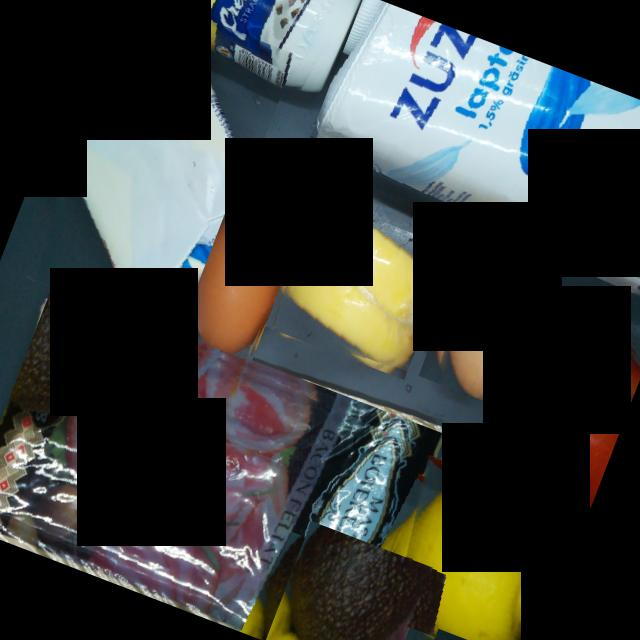avocado: (265, 521, 433, 640)
bacon: (0, 284, 450, 640)
butter: (0, 0, 298, 337)
cheese: (264, 196, 454, 380)
eggs: (419, 232, 555, 406), (178, 202, 302, 362)
lemon: (368, 455, 573, 640)
milk: (299, 0, 640, 305)
tomatoes: (484, 313, 640, 523)
yogurt: (182, 0, 357, 99)
